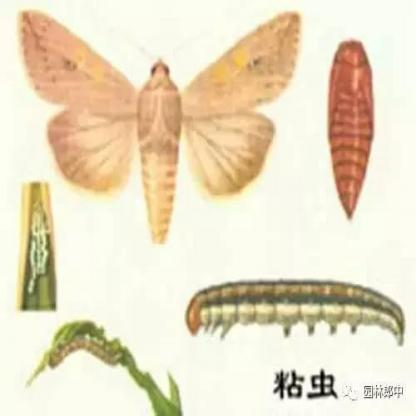armyworm: (16, 13, 300, 238), (183, 273, 405, 350), (325, 34, 374, 222), (45, 331, 131, 375), (25, 193, 52, 305)
